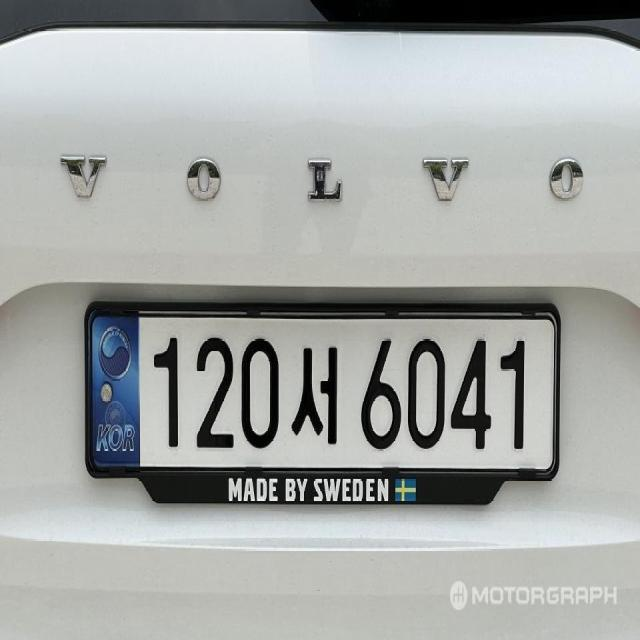illegal_plate: (82, 280, 562, 536)
